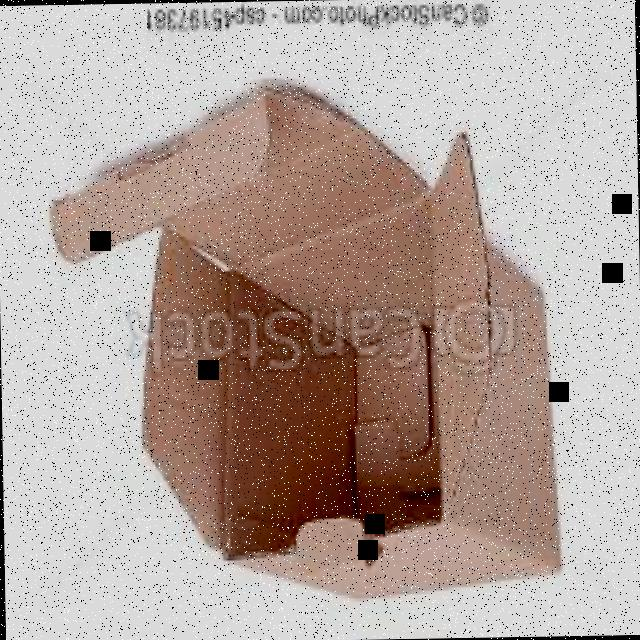cardboard_box: (39, 83, 574, 612)
